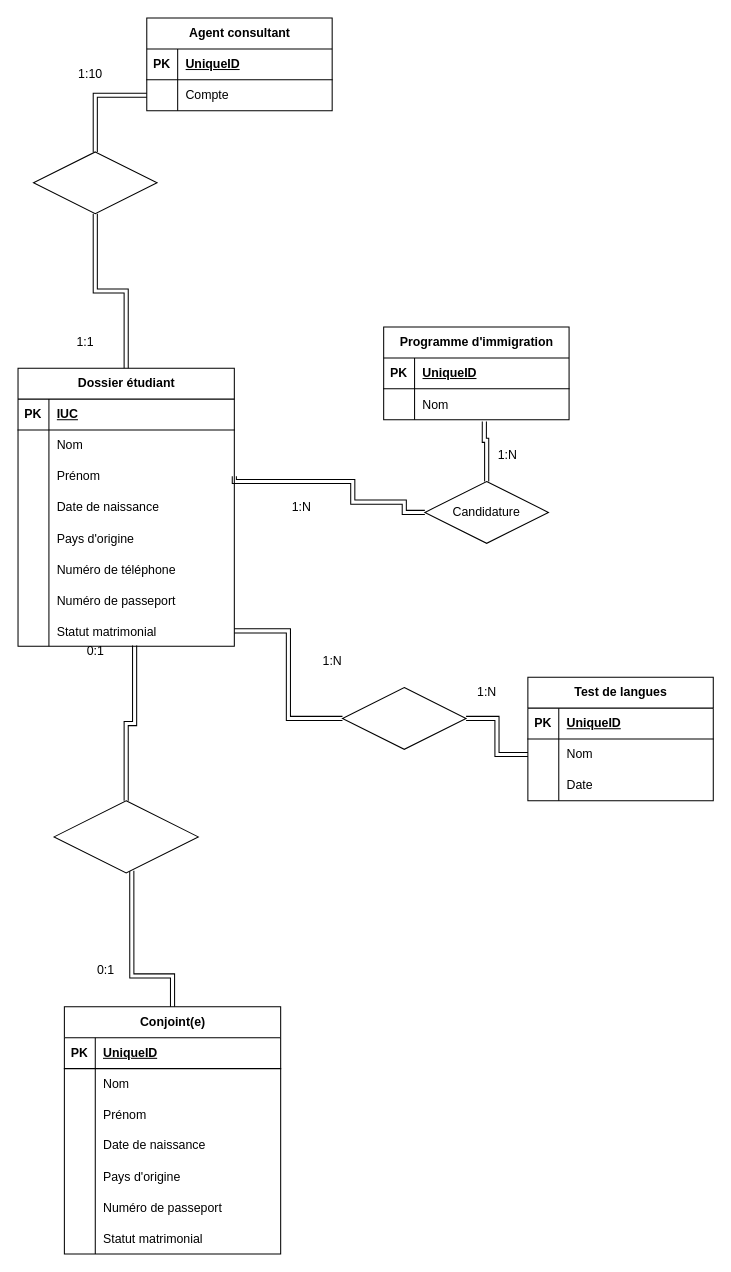
The diagram is 731 pixels wide and 1272 high, and some of its shapes have lost their labels. The shapes that lost their labels are listed below. From the top down, each one's centre as x and y in pixels, then its label:
At point 94,182: "Suivi".
At point 403,717: "Réussite".
At point 125,836: "Spécifier informations".
